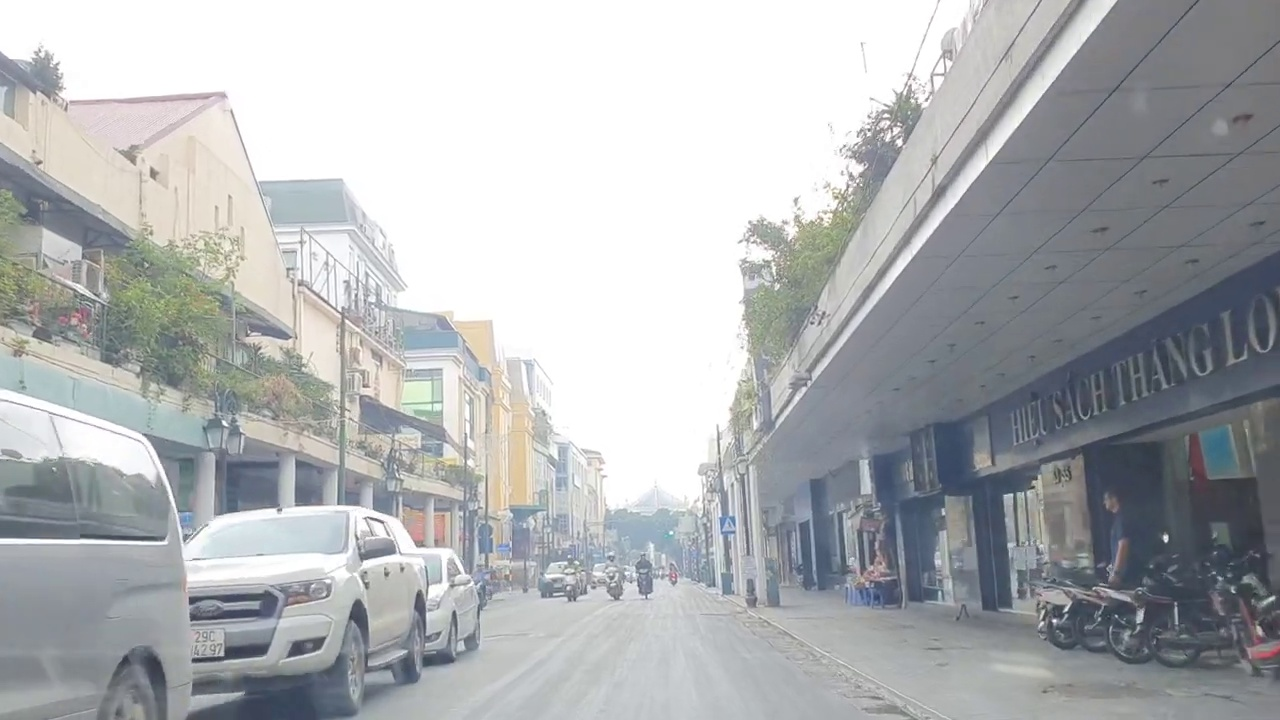vehicle-plate: (190, 626, 223, 658)
